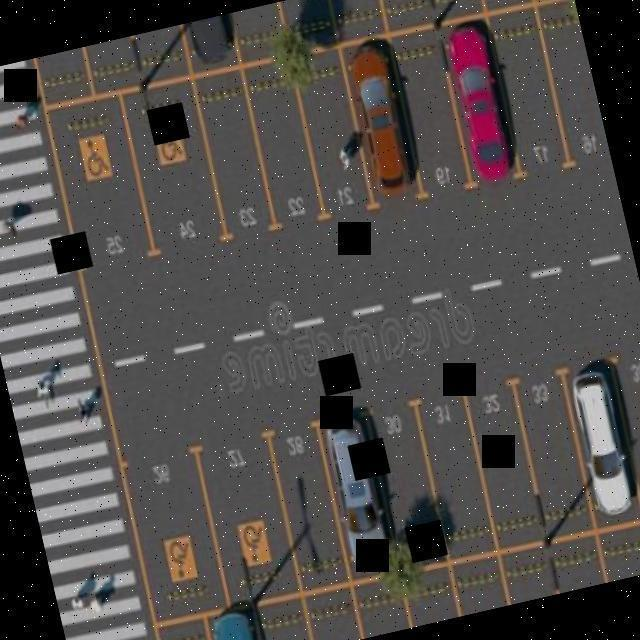empty: (44, 90, 154, 282), (119, 440, 225, 620), (119, 86, 225, 265), (194, 440, 292, 602), (384, 18, 472, 193), (190, 62, 276, 236), (504, 368, 596, 529), (458, 376, 545, 540), (483, 5, 568, 170), (360, 396, 448, 550), (288, 62, 372, 220), (409, 385, 494, 536), (258, 422, 341, 574), (241, 72, 322, 220), (533, 0, 608, 155), (612, 351, 640, 502), (394, 562, 458, 628), (81, 36, 142, 98), (542, 538, 606, 594), (277, 0, 342, 55), (230, 2, 288, 61), (350, 580, 408, 638), (33, 48, 89, 108), (303, 583, 360, 640), (496, 550, 552, 606), (450, 560, 506, 616), (136, 25, 186, 80), (325, 0, 384, 46), (595, 536, 640, 583), (373, 0, 431, 32), (258, 605, 308, 640), (154, 618, 211, 640), (424, 0, 482, 21)
occupied: (310, 402, 396, 586), (434, 9, 520, 192), (335, 39, 424, 215), (558, 352, 640, 521), (178, 14, 236, 78), (202, 602, 260, 640)
